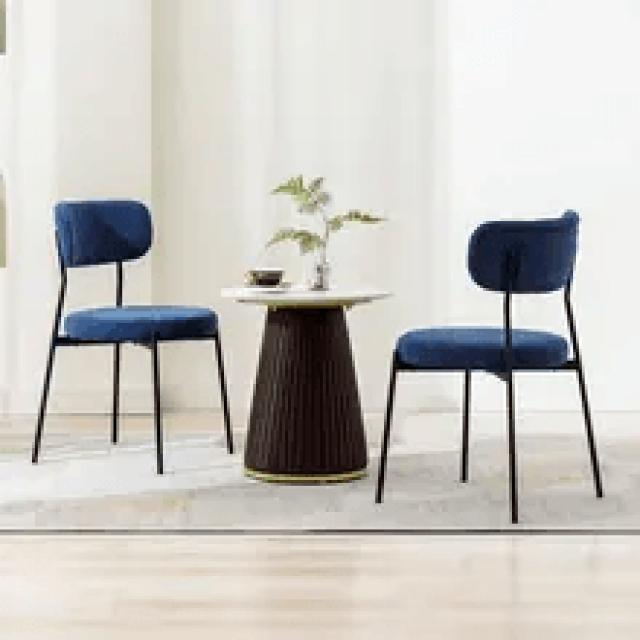chair: (374, 205, 608, 528), (26, 194, 238, 476), (376, 207, 576, 370), (40, 200, 228, 346)
